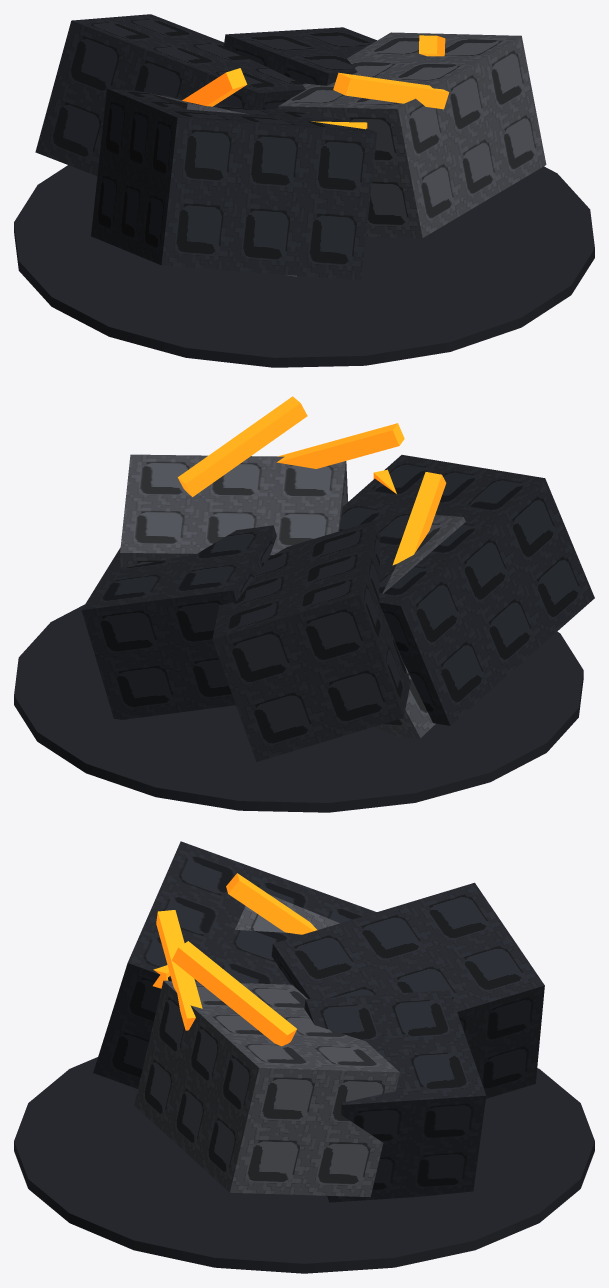
File: VolcanicBomb.glb
3 renders of one model, top to bottom at view 1: azimuth 30°, elevation 25°; view 2: azimuth 150°, elevation 25°; view 3: azimuth 270°, elevation 25°, orthographic. The views are drawn at different scales.
Visible parts, largest first — view 1: VolcanicBomb, VolcanicBomb_Glow; view 2: VolcanicBomb, VolcanicBomb_Glow; view 3: VolcanicBomb, VolcanicBomb_Glow.
Part boxes in pixels (x1,y1,x2,y2): VolcanicBomb: [14, 14, 594, 367]; VolcanicBomb_Glow: [182, 35, 449, 129]; VolcanicBomb: [14, 454, 594, 812]; VolcanicBomb_Glow: [177, 396, 446, 565]; VolcanicBomb: [14, 841, 594, 1273]; VolcanicBomb_Glow: [153, 873, 317, 1046].
Size of the model in its own units: 8 by 3.88 by 8.
Materials: 2 (1 with a texture image).
